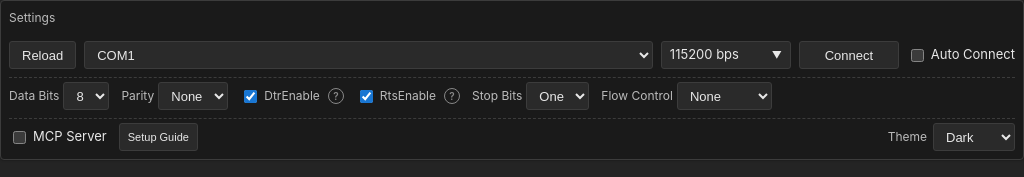
Test: SettingsPanel - MCP Server › renders connection count, last send activity, and the content preview
Click the checkbox labelled "MCP Server" at (20, 137), box [13,130,26,144]
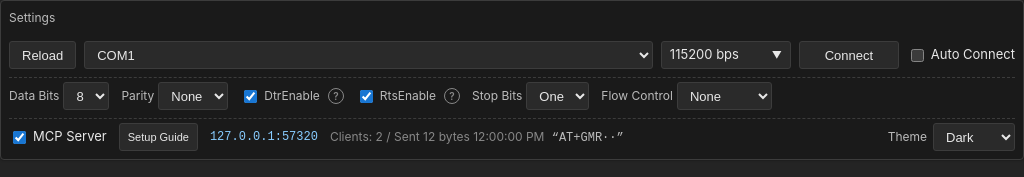
Now the text "Clients: 2 / Sent 12 bytes 12:00:00 PM “AT+GMR··”" is shown, box [330,128,624,146]
